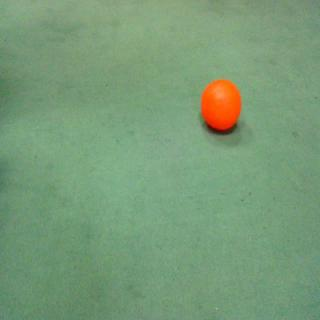orange: (196, 71, 251, 147)
